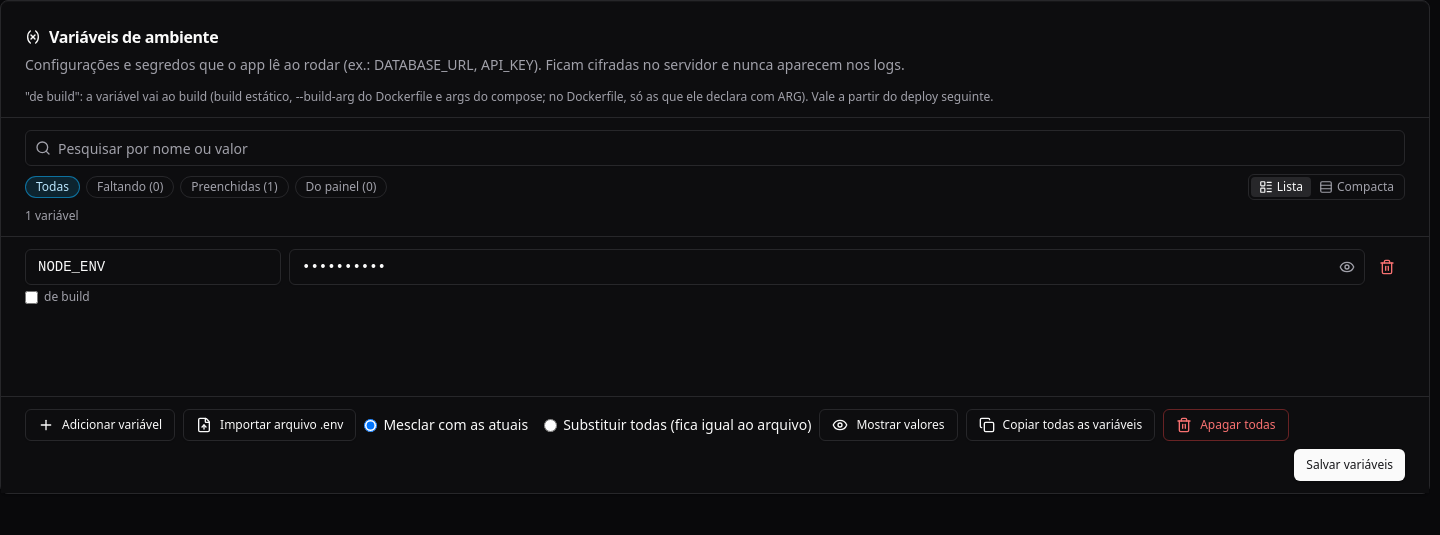
ProjectEnvCard › carrega, esconde os valores, adiciona e salva a lista
Click the button "Adicionar variável" at x=100, y=425, box [25,409,175,441]
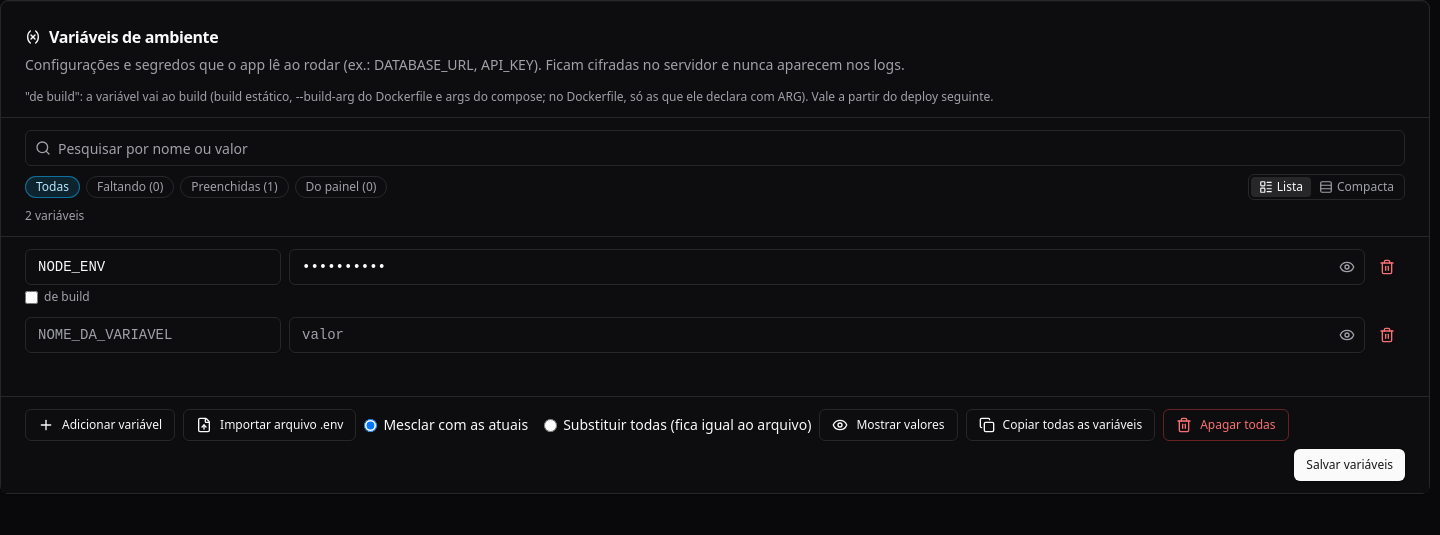
Type "DATABASE_URL" into the field with placeholder "NOME_DA_VARIAVEL" at x=153, y=335, box [25,317,281,353]
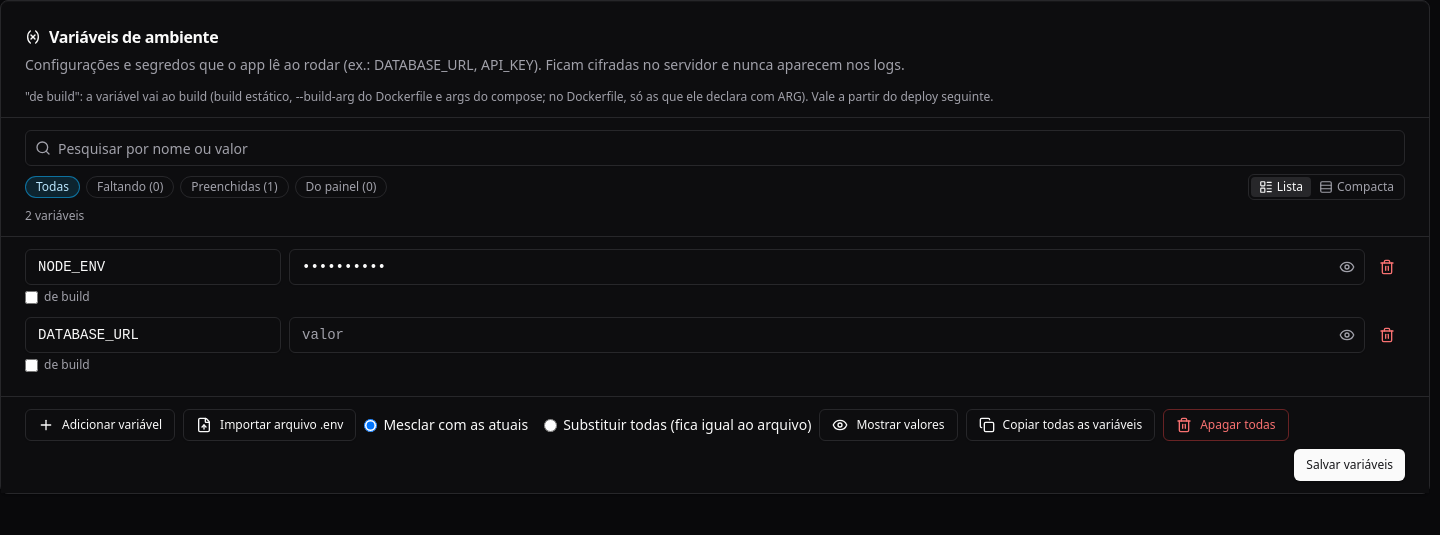
Type "postgres://x" into the password field with placeholder "valor" at x=827, y=335, box [289,317,1365,353]
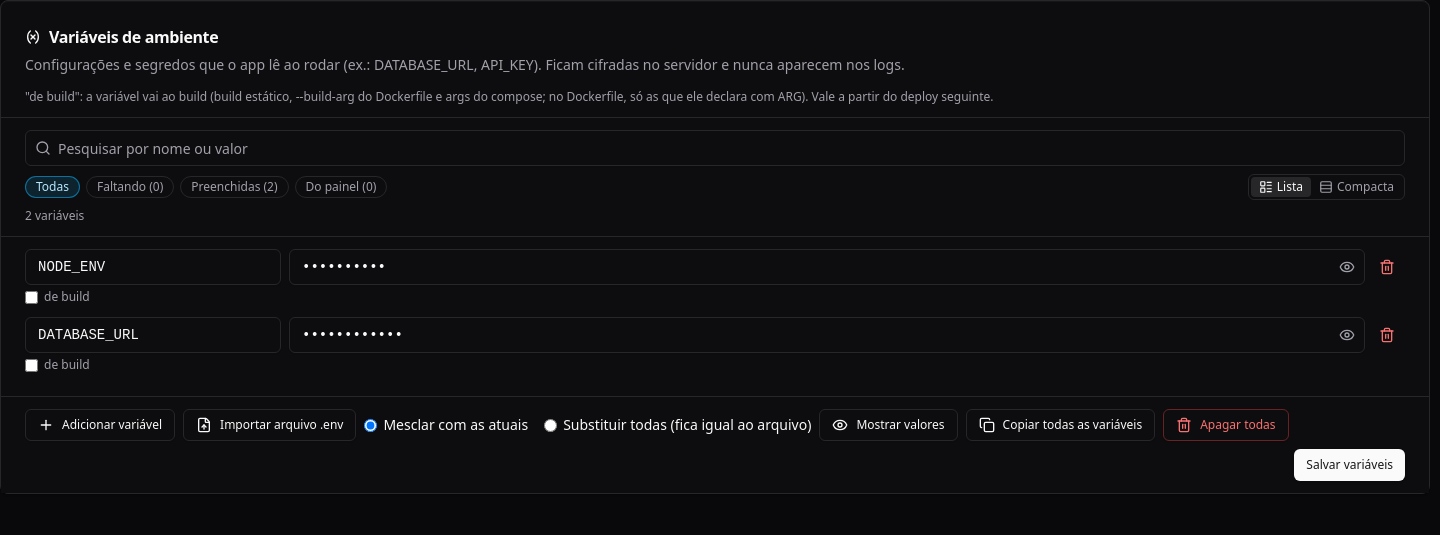
Click the button "Salvar variáveis" at x=1350, y=465, box [1294,449,1405,481]
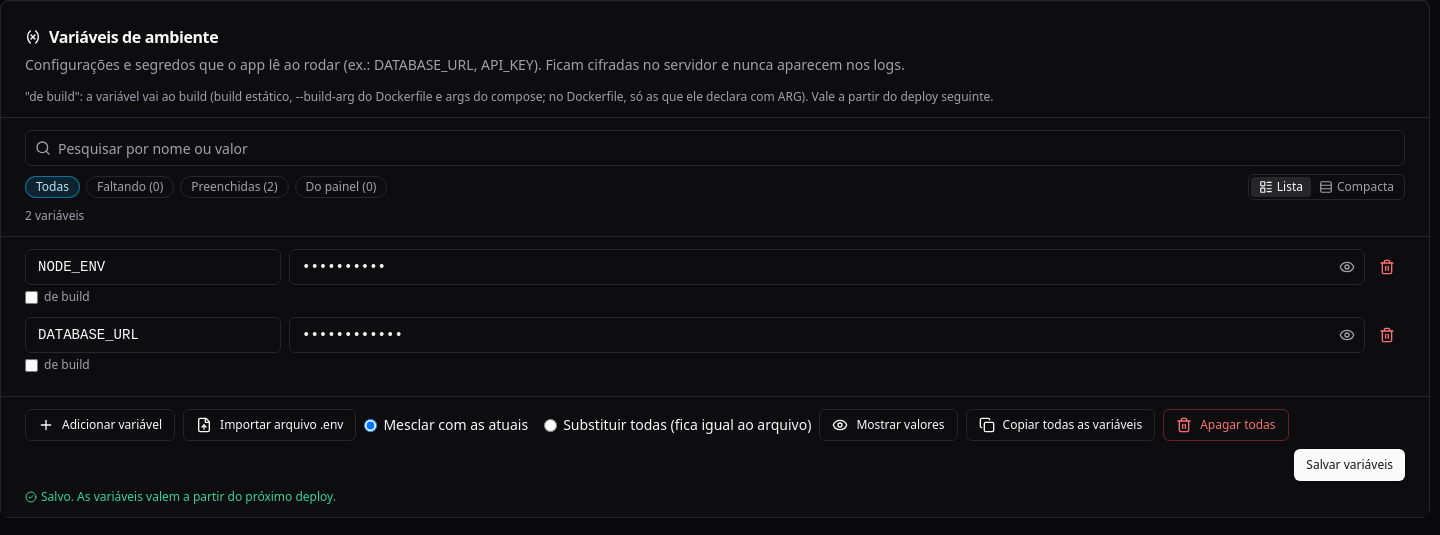
Expected: the text "Salvo. As variáveis valem a partir do próximo deploy." is shown, [25,488,336,505]
